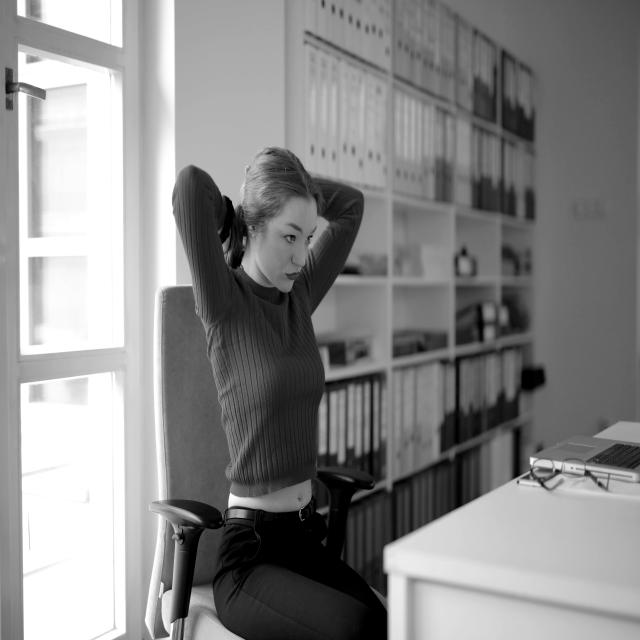No-Vest: (225, 274, 324, 512)
